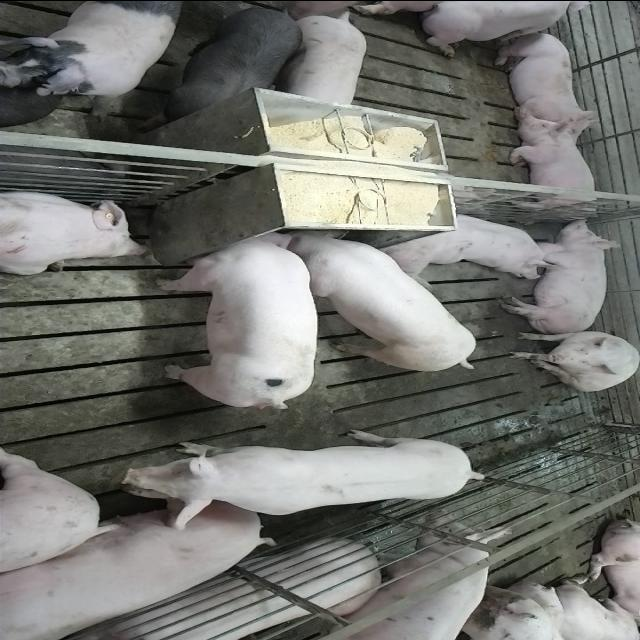Feeding: (156, 229, 320, 413), (281, 228, 479, 376)
Lateral_lying: (498, 215, 625, 334)
Sitting: (506, 328, 638, 391)
Standing: (107, 428, 487, 516), (136, 2, 302, 132), (301, 536, 501, 640), (0, 2, 182, 111), (281, 12, 367, 108)
Sternal_lying: (0, 496, 272, 640), (0, 186, 150, 274), (381, 208, 569, 274), (491, 28, 597, 129), (504, 112, 604, 216), (418, 3, 608, 55)
